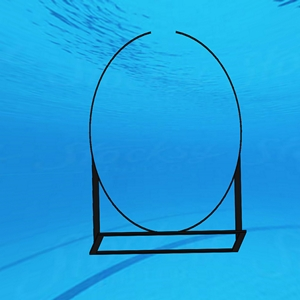circle: (83, 29, 247, 259)
